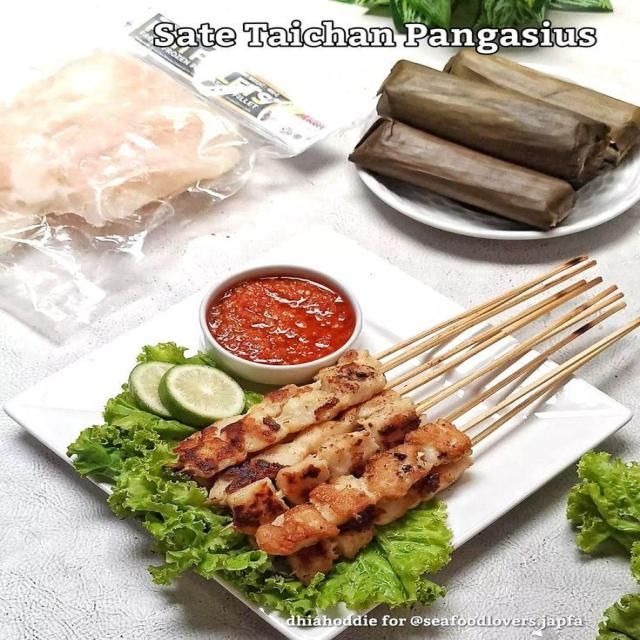Sate: (179, 240, 639, 606)
